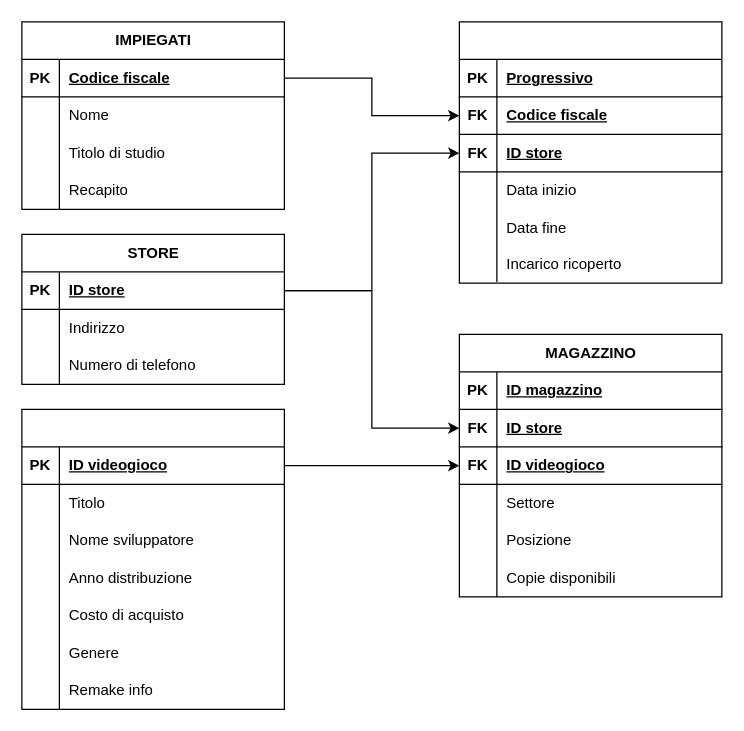
This 744x731 diagram has some shape labels left out. The box of each missing label's shape, as (x1, y1, x2, y2) in pixels:
SPOSTAMENTI: (458, 21, 722, 283)
VIDEOGIOCHI: (21, 408, 284, 709)
